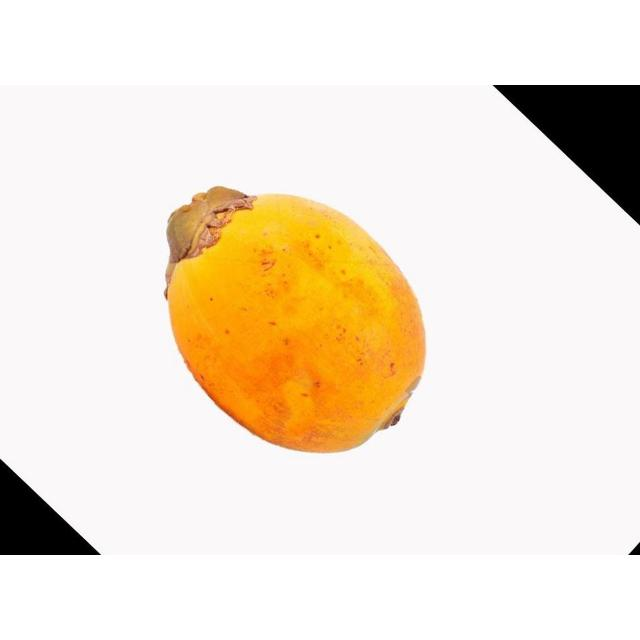good: (164, 187, 428, 456)
